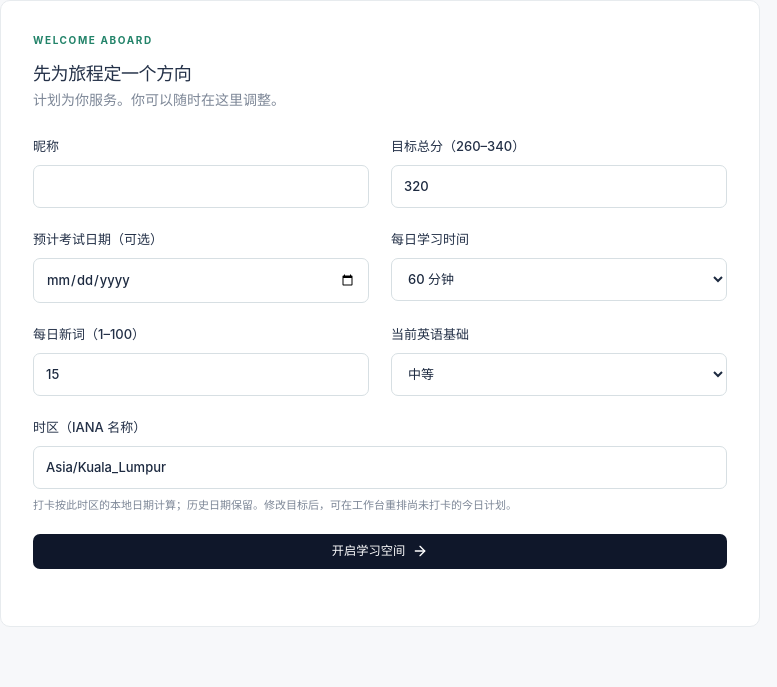
Test: requires a name, then saves onboarding settings
Click the button "开启学习空间" at [380, 551], box [33,534,727,569]
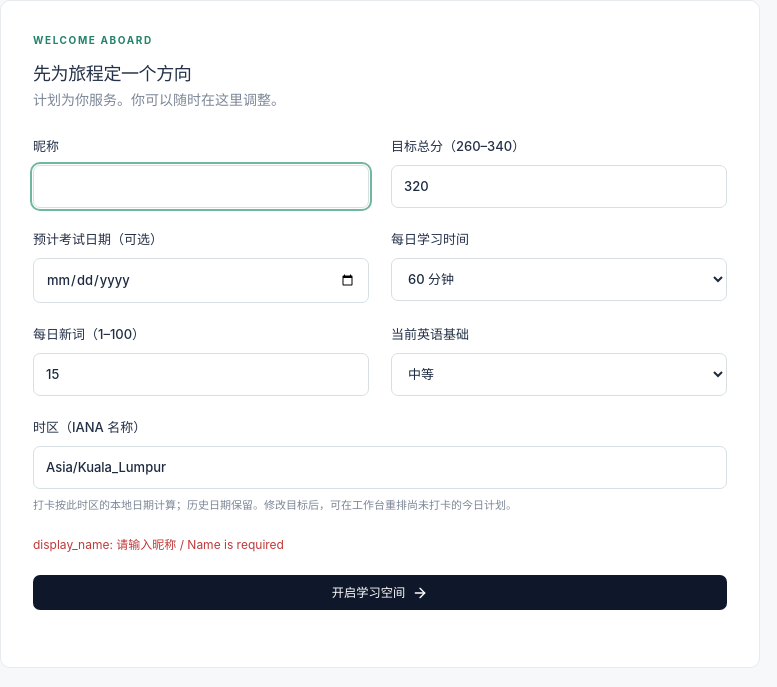
Now the message shows "display_name", box [33,537,109,552]
Type "Pilot" into the field labelled "昵称" at [201, 186], box [33,165,369,208]
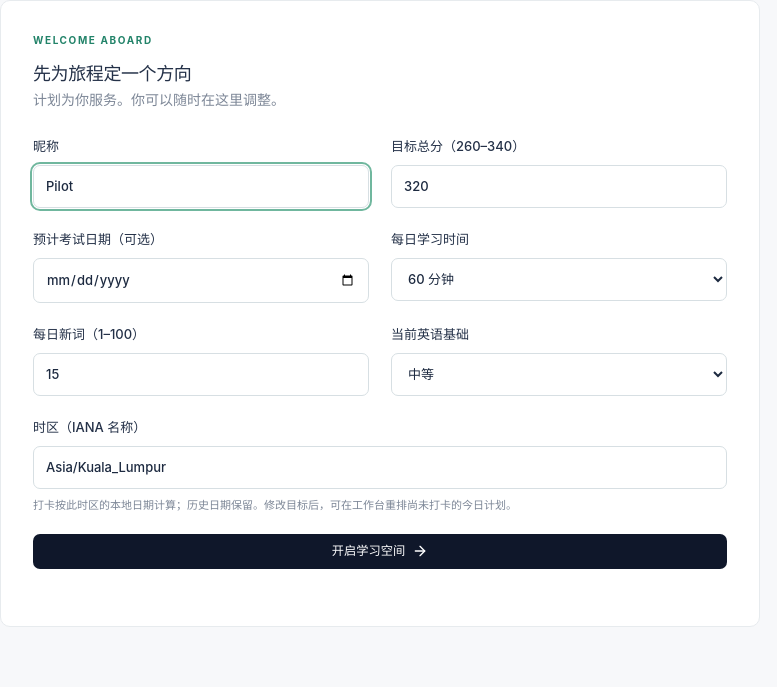
Click the button "开启学习空间" at [380, 551], box [33,534,727,569]
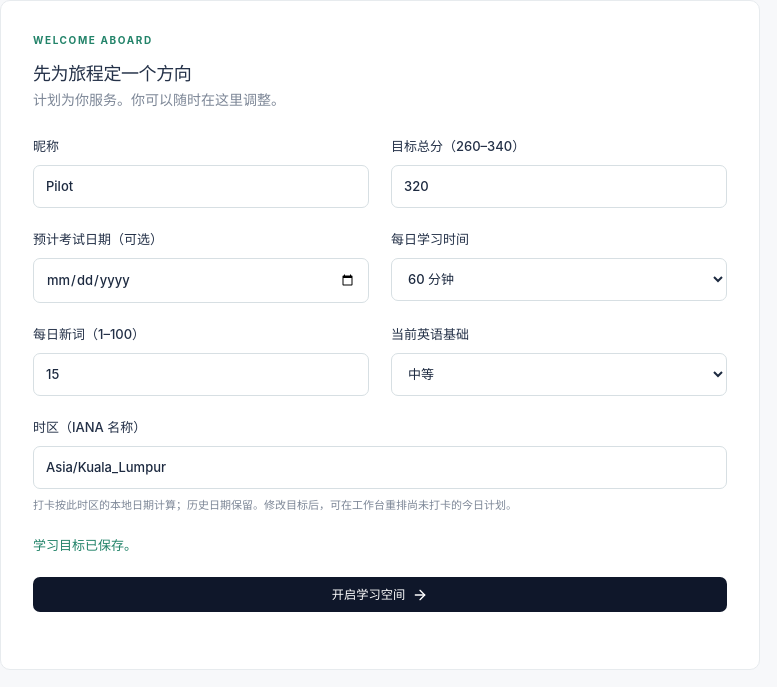
Now the message shows "已保存", box [33,537,137,553]
